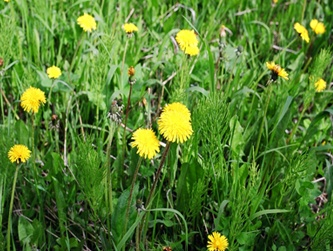dandelion: (161, 112, 192, 140), (260, 57, 289, 86), (129, 130, 159, 157), (175, 30, 203, 55), (77, 14, 102, 32), (8, 145, 31, 163), (209, 233, 229, 251), (23, 90, 44, 107), (44, 67, 64, 81), (120, 22, 138, 33)
